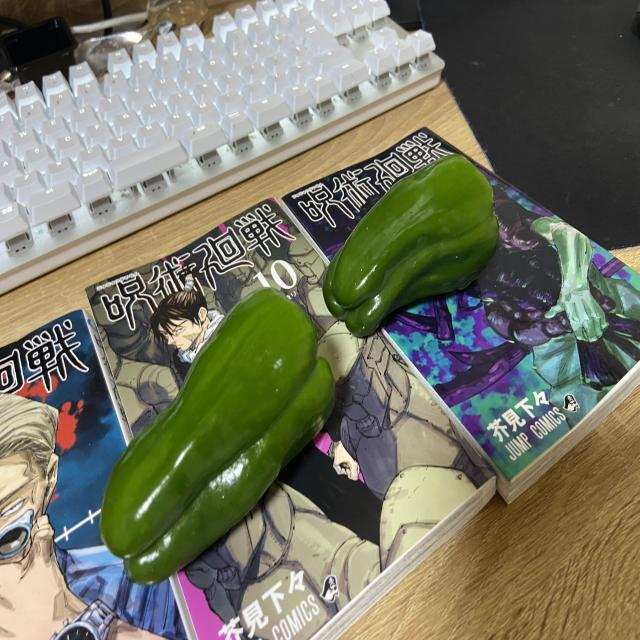green_pepper: (99, 286, 337, 588), (324, 152, 502, 340)
